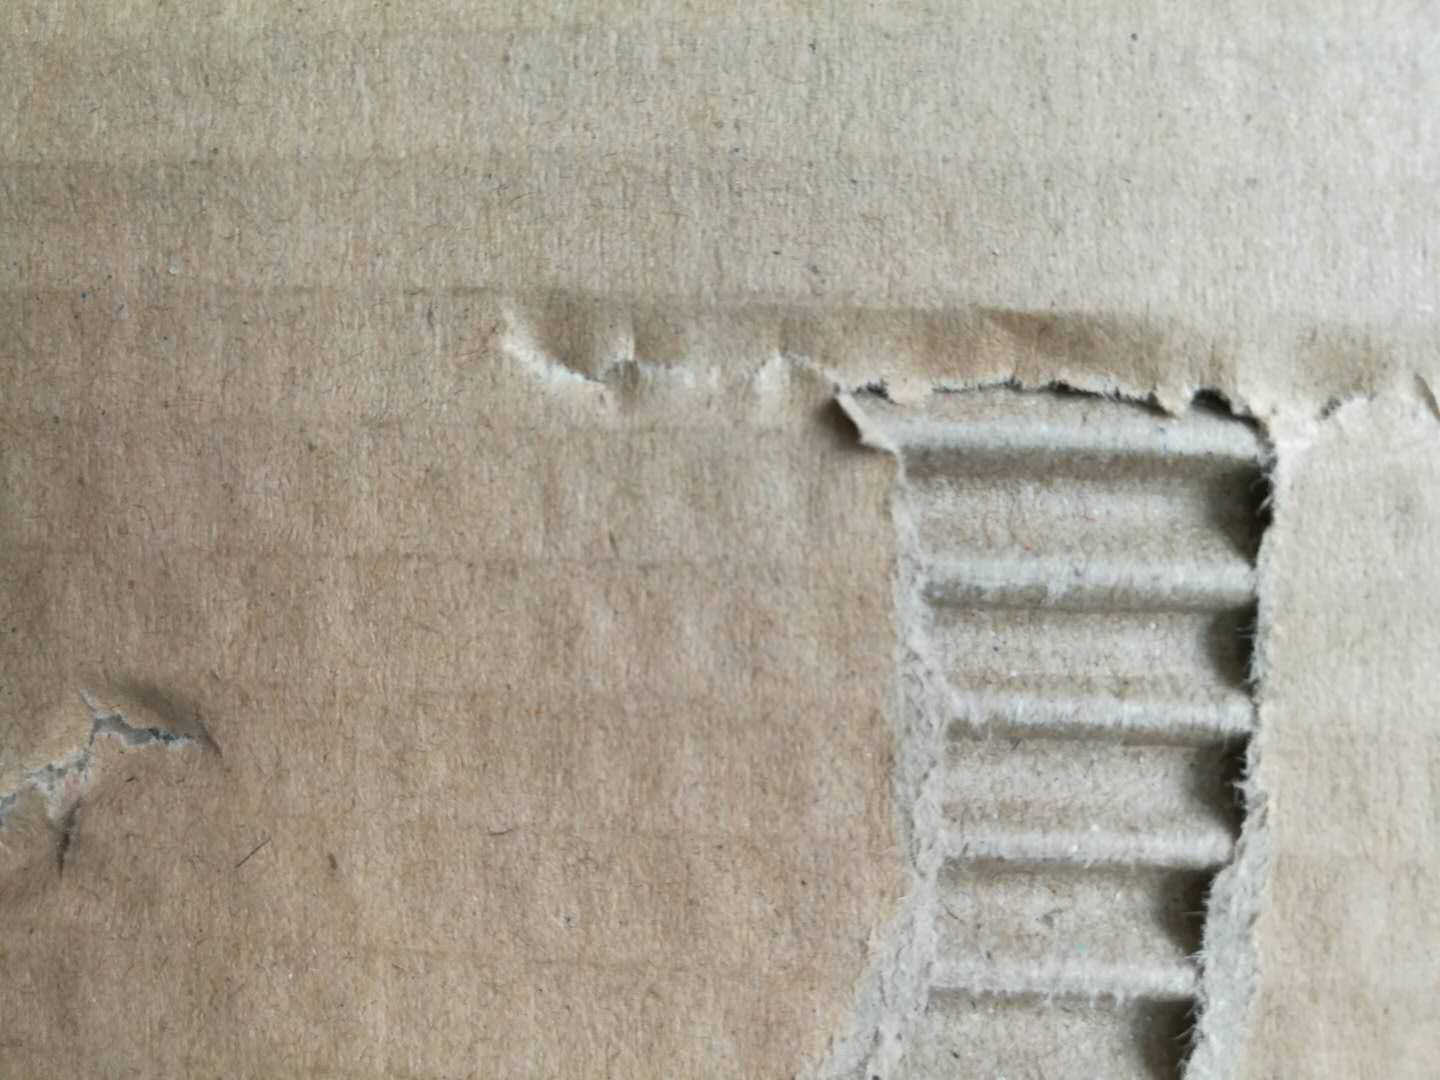defect: (450, 233, 1437, 1080), (2, 638, 264, 906)
